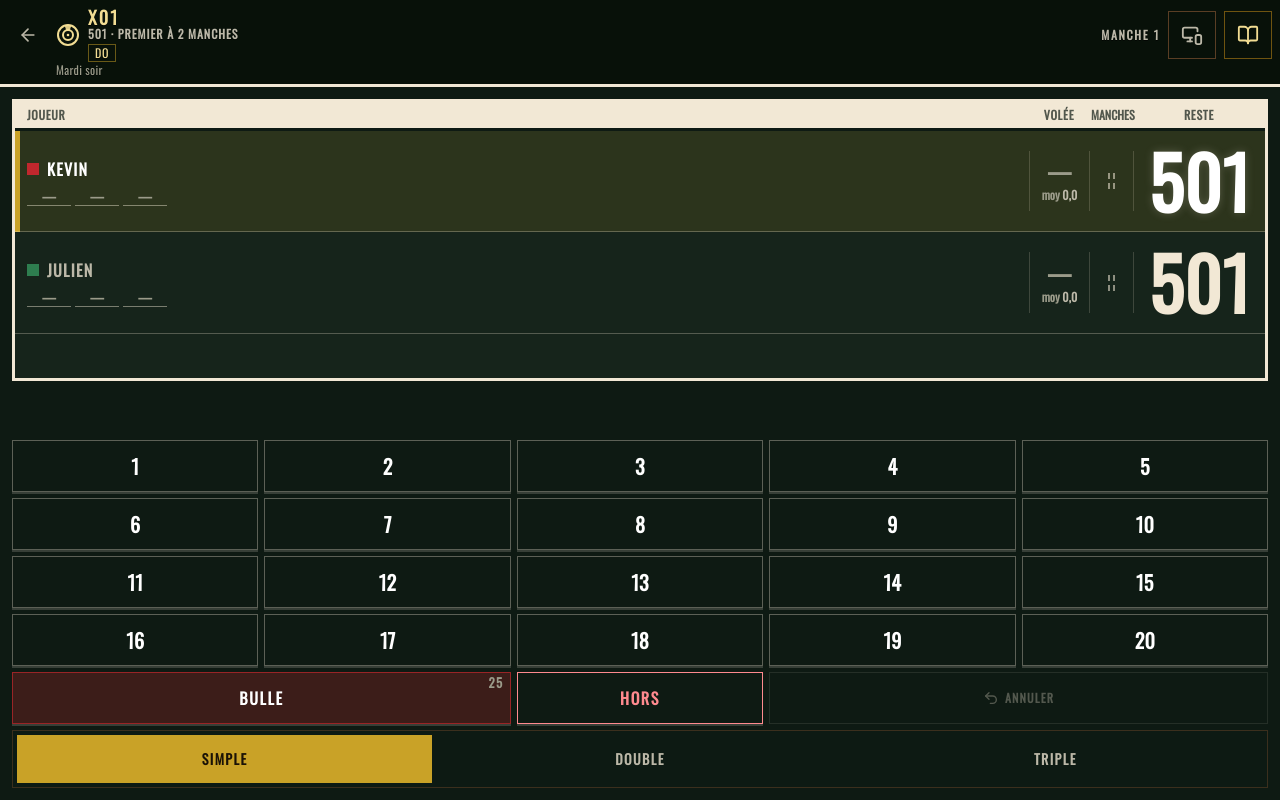
Test: Pavé X01 — le multiplicateur armé › la Bulle reste désactivée en Triple : une règle, pas un état de chargement
Expected: the element named "Score restant de Kevin" is shown, [1149, 151, 1250, 212]
Click the button "Triple".
click(1055, 759)  # box [848, 735, 1263, 783]
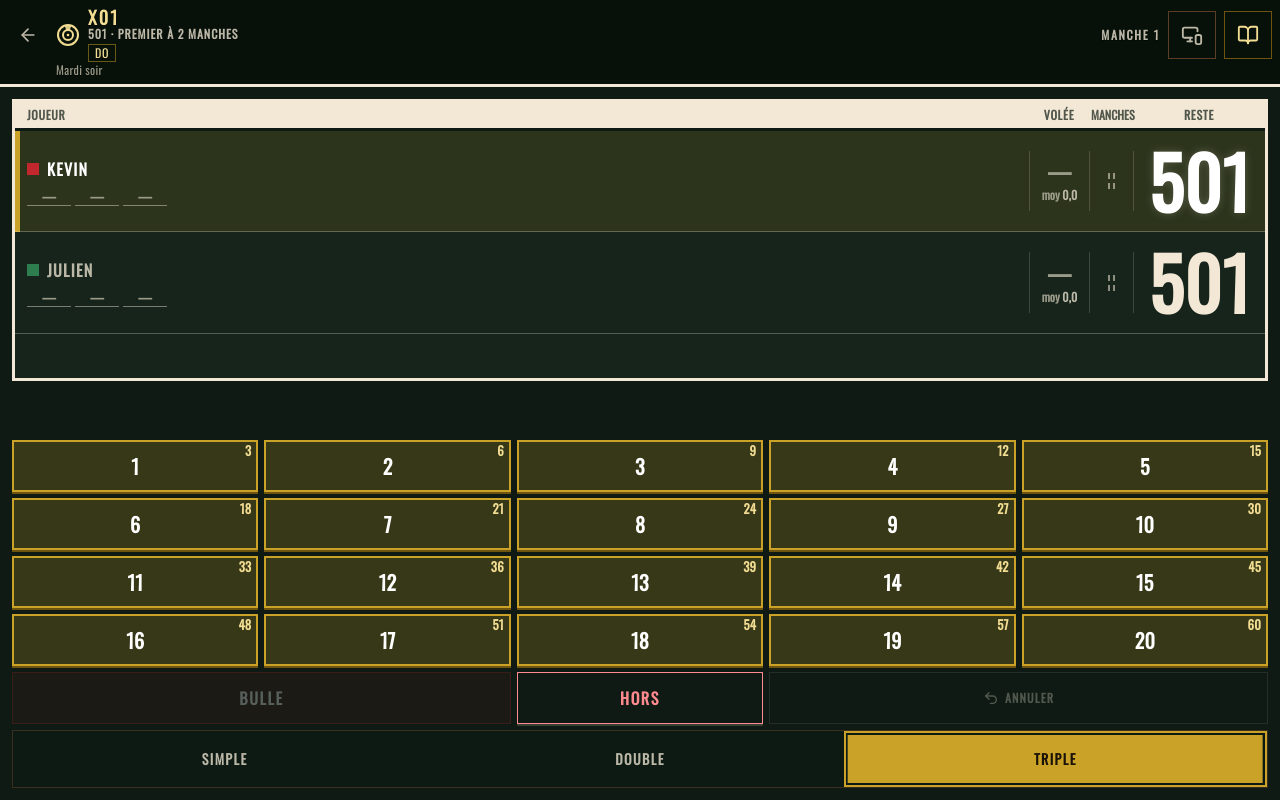
Result: the button "Bulle" is disabled at [12, 672, 511, 724]
